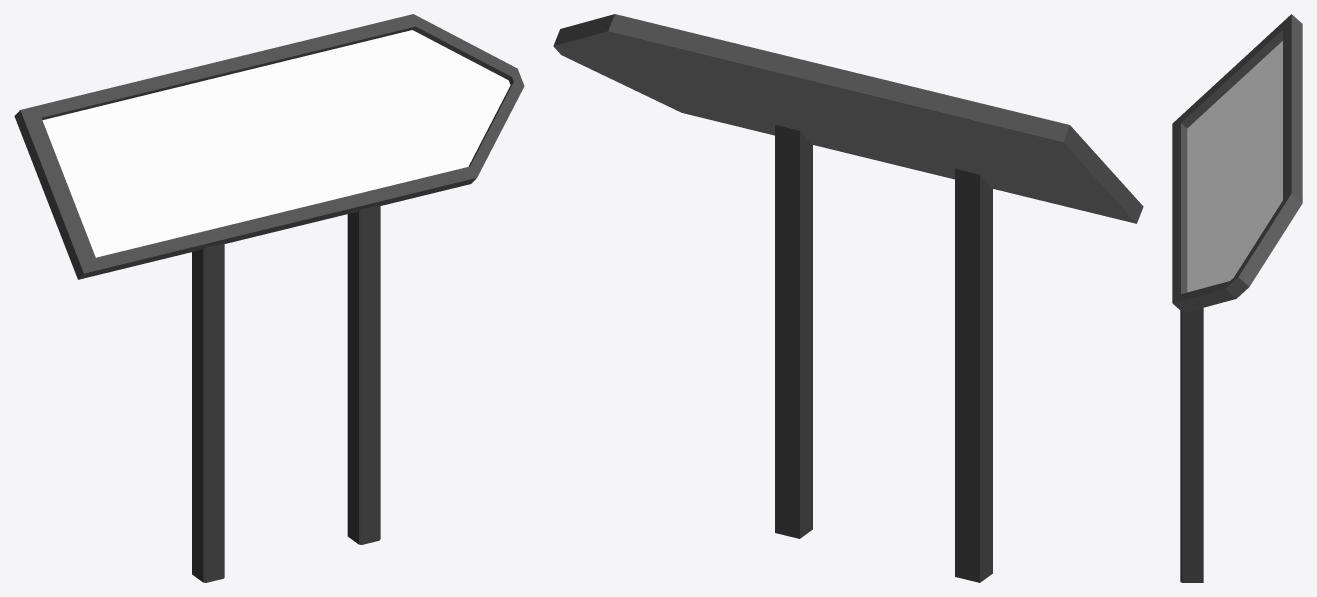
File: SignBoard.fbx
3 renders of one model, left to right at view 1: azimuth 30°, elevation 25°; view 2: azimuth 150°, elevation 25°; view 3: azimuth 270°, elevation 25°, orthographic. The views are drawn at different scales.
Parts seen in each view (by area): view 1: Cube.003; view 2: Cube.003; view 3: Cube.003.
Part boxes in pixels (x1,y1,x2,y2): Cube.003: [14, 14, 524, 582]; Cube.003: [553, 14, 1143, 582]; Cube.003: [1172, 14, 1302, 582].
Bounding box in the file's own units: 163 × 153 × 41.87.
